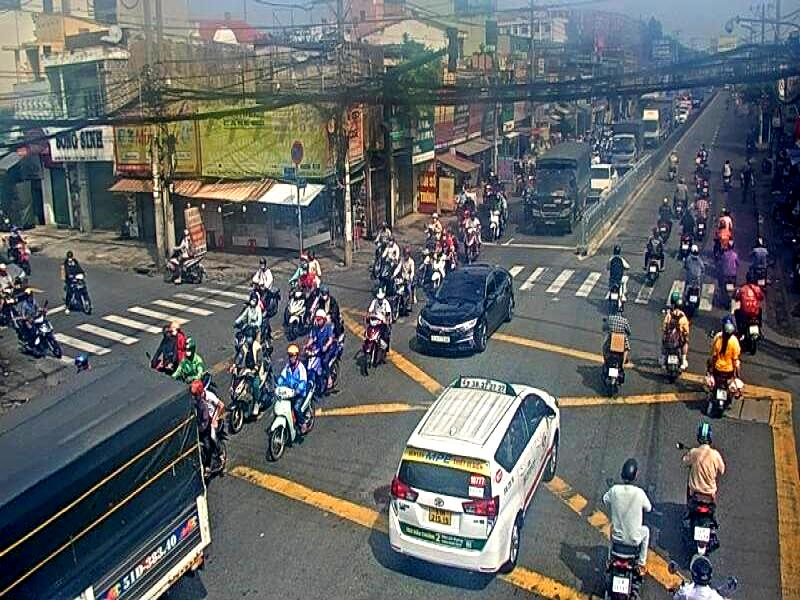car: (376, 370, 574, 600), (418, 256, 516, 374)
motorcycle: (260, 376, 332, 456), (594, 330, 625, 402), (658, 329, 691, 395), (590, 281, 634, 326), (352, 305, 386, 361)
truck: (525, 126, 597, 236), (607, 108, 641, 170)
